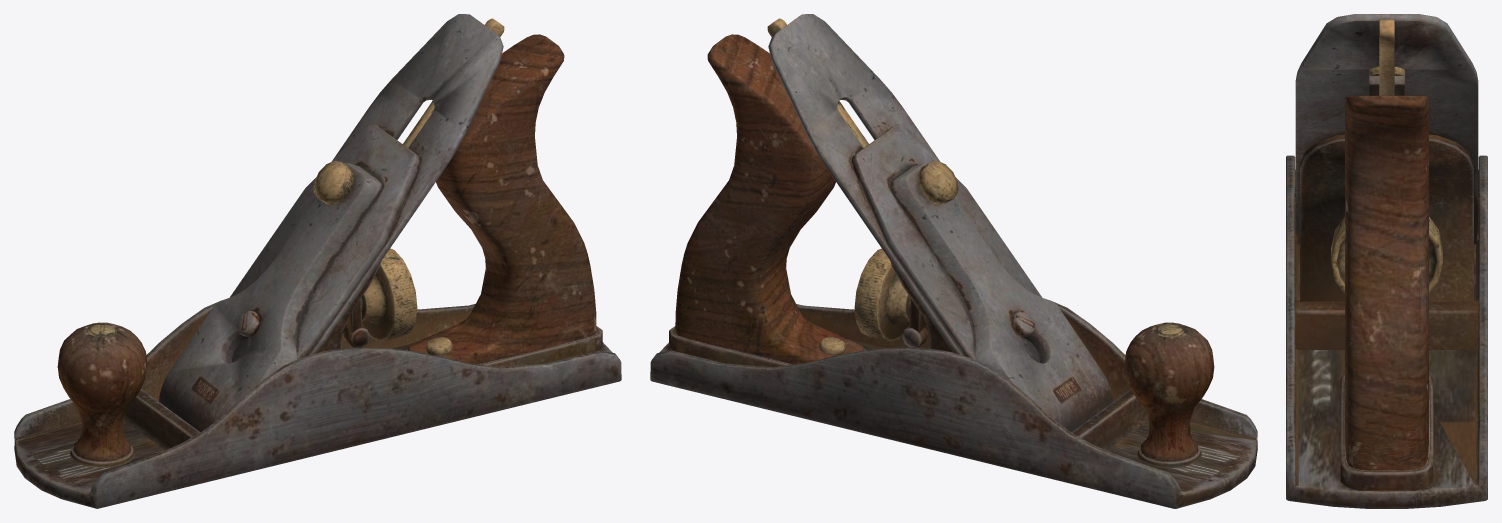
Rendered from hand_plane_no4.gltf.
3 views of the same model, side by side, from view 1: azimuth 30°, elevation 25°; view 2: azimuth 150°, elevation 25°; view 3: azimuth 270°, elevation 25° (orthographic). The views are drawn at different scales.
Visible parts, largest first — view 1: hand_plane_no4__x; view 2: hand_plane_no4__x; view 3: hand_plane_no4__x.
Part boxes in pixels (x1=…): hand_plane_no4__x: x1=14, y1=14, x2=621, y2=508; hand_plane_no4__x: x1=650, y1=14, x2=1257, y2=508; hand_plane_no4__x: x1=1286, y1=14, x2=1487, y2=508.
Size of the model in its own units: 0.3308 by 0.1978 by 0.0843.
Materials: 1 (1 with a texture image).
